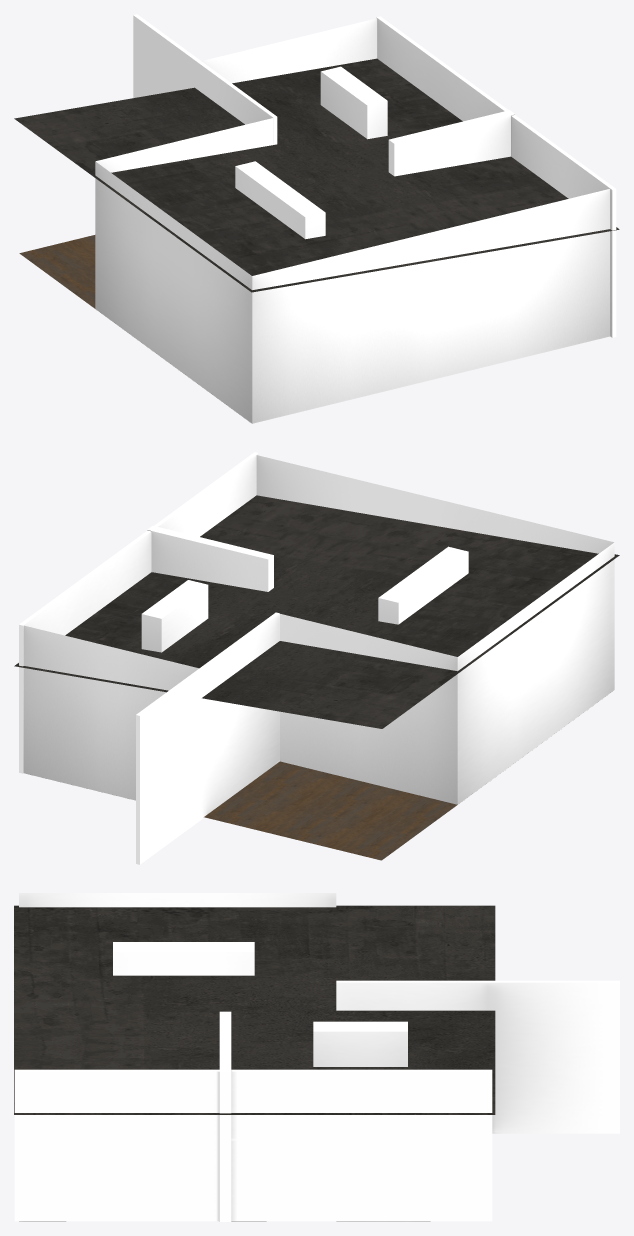
Rendered from Gallery_15.glb.
3 renders of one model, top to bottom at view 1: azimuth 30°, elevation 25°; view 2: azimuth 150°, elevation 25°; view 3: azimuth 270°, elevation 25°, orthographic.
Visible parts, largest first — view 1: HIdingWall, ceiling, Floor; view 2: HIdingWall, ceiling, Floor; view 3: HIdingWall, ceiling.
Part boxes in pixels (left/top/right/bottom): HIdingWall: left=95, top=14, right=616, bottom=423; ceiling: left=14, top=58, right=619, bottom=292; Floor: left=19, top=235, right=95, bottom=308; HIdingWall: left=19, top=452, right=614, bottom=864; ceiling: left=14, top=495, right=619, bottom=728; Floor: left=204, top=761, right=457, bottom=860; HIdingWall: left=14, top=893, right=619, bottom=1221; ceiling: left=14, top=905, right=495, bottom=1114.
Size of the model in its own units: 36.44 by 14.13 by 51.29.
3 materials, 3 textured.
